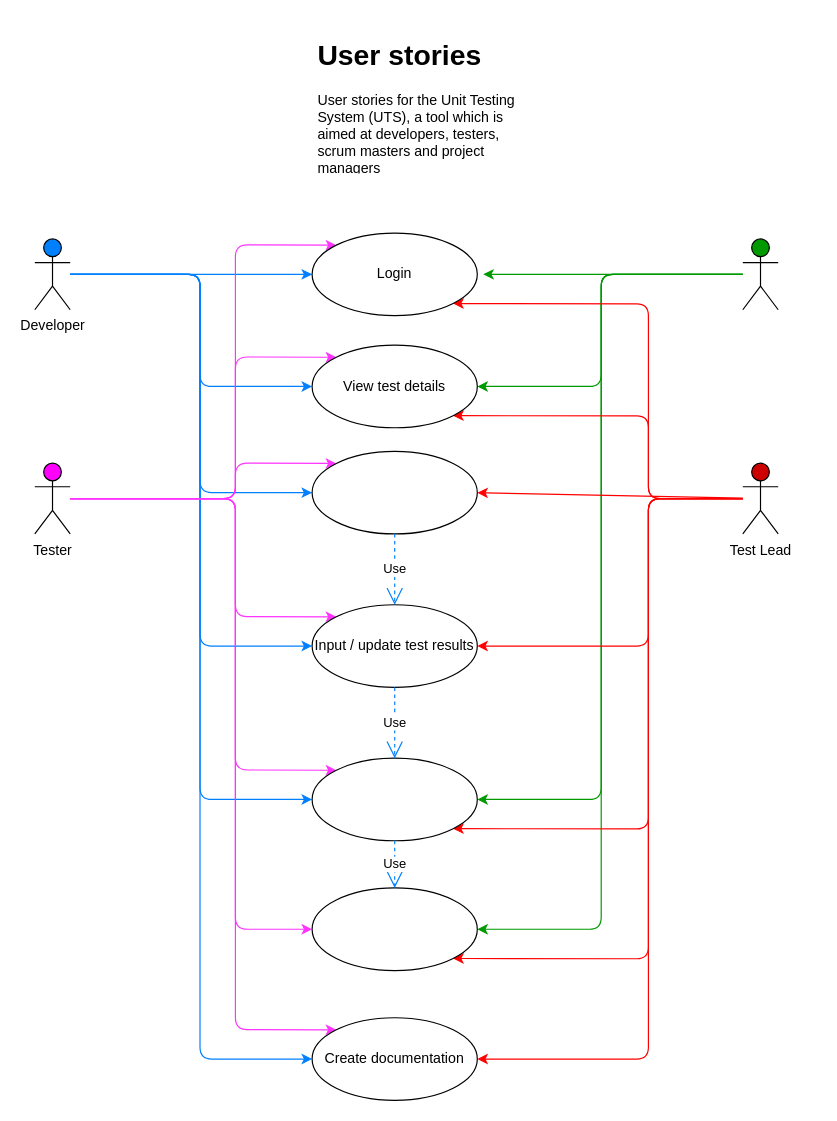
Image size: 837x1121. Some labels were removed from this diagram. The centre of each missing label's shape, as x and y in pixels:
Create tests: (x=394, y=492)
Scrum Master / Project Manager / Product Owner: (x=760, y=274)
View / generate report for current test/project: (x=394, y=799)
View / generate report for historical tests/projects: (x=394, y=929)
